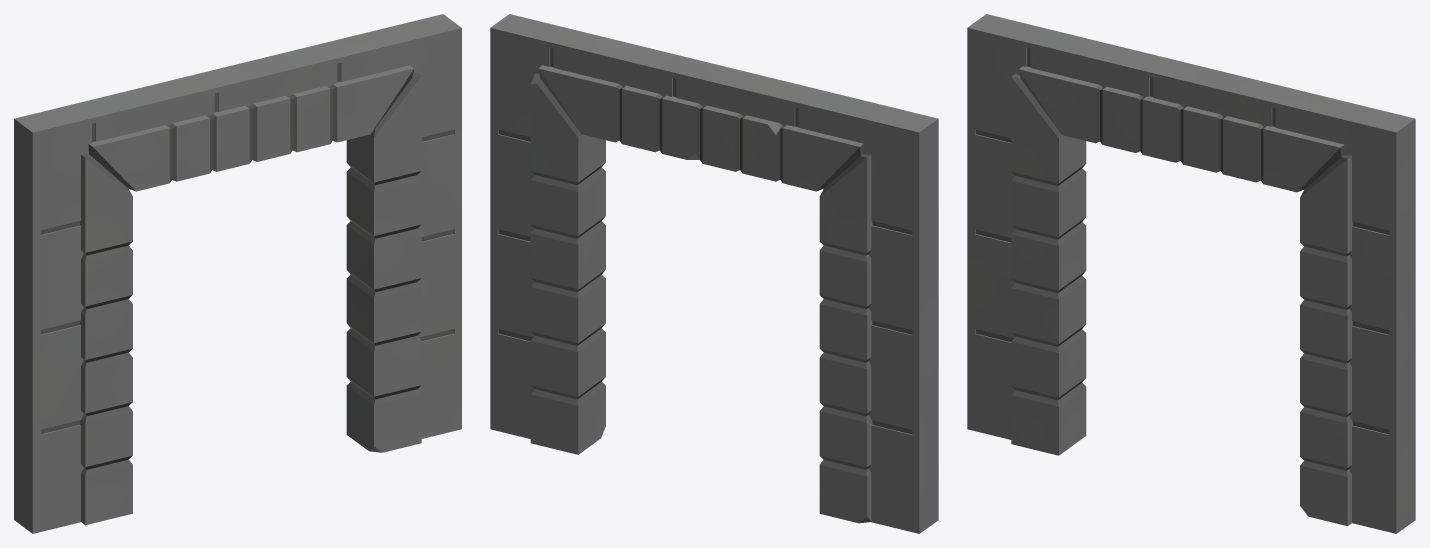
The model's file is Arch_5_Wall.fbx.
3 views of the same model, side by side, from view 1: azimuth 30°, elevation 25°; view 2: azimuth 150°, elevation 25°; view 3: azimuth 330°, elevation 25° (orthographic).
Visible parts, largest first — view 1: Arch 5 Wall; view 2: Arch 5 Wall; view 3: Arch 5 Wall.
Boxes of the visible parts, bbox=[...] form: Arch 5 Wall: bbox=[14, 14, 461, 533]; Arch 5 Wall: bbox=[490, 14, 938, 533]; Arch 5 Wall: bbox=[967, 14, 1415, 533].
Bounding box in the file's own units: 280 × 250 × 31.04.
